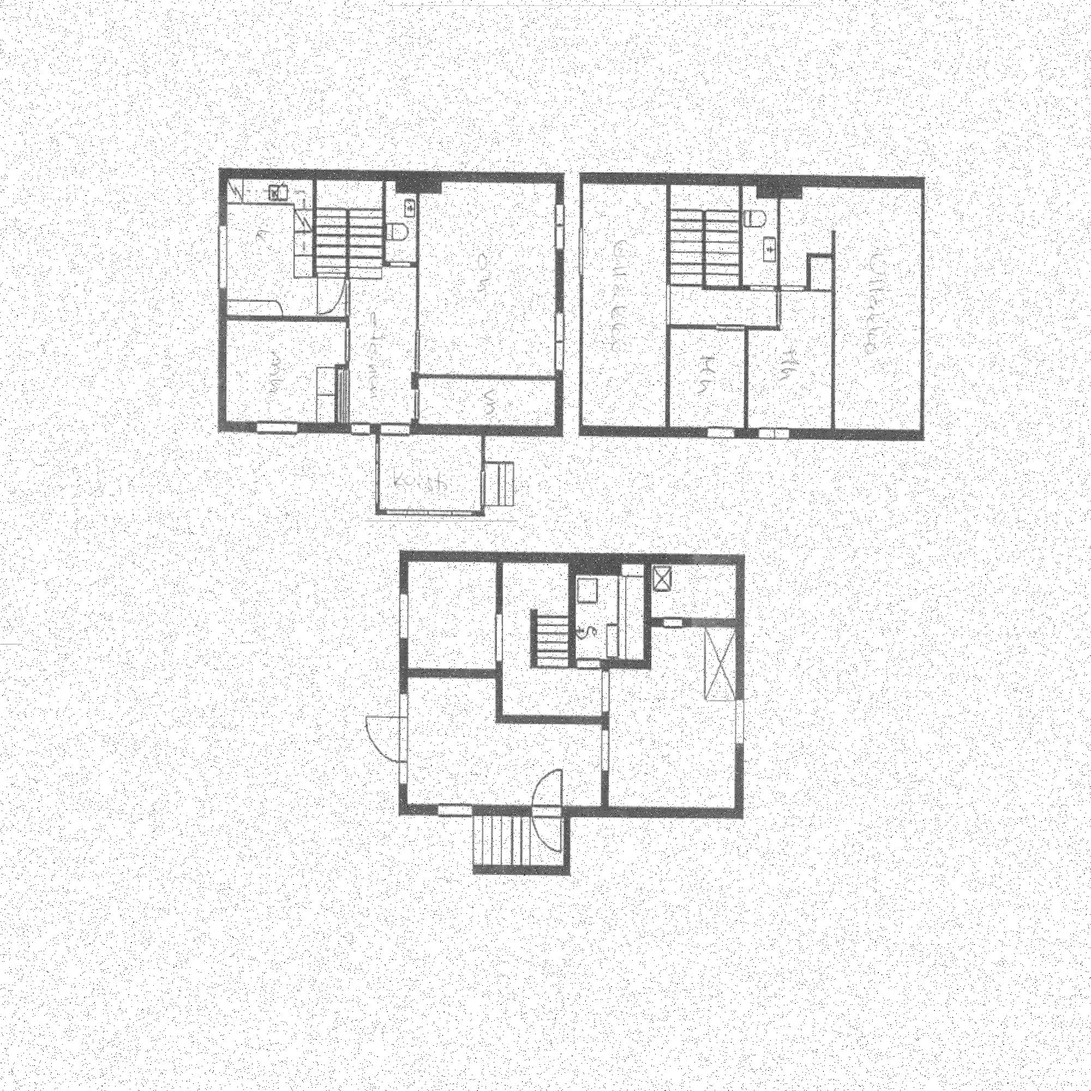wall: (400, 804, 745, 816), (218, 167, 564, 178), (579, 172, 925, 183), (400, 551, 745, 562), (579, 427, 925, 437), (555, 167, 564, 434), (736, 551, 745, 816), (218, 167, 226, 434), (400, 551, 408, 816), (218, 423, 380, 434), (579, 172, 584, 437), (920, 172, 925, 437), (666, 183, 671, 437), (375, 423, 485, 434), (416, 167, 420, 434), (602, 668, 609, 816), (496, 562, 502, 723), (496, 714, 602, 723), (400, 668, 502, 677), (480, 423, 563, 434), (644, 618, 736, 627), (832, 230, 836, 427), (375, 509, 485, 516), (226, 316, 351, 322), (644, 562, 651, 668), (415, 373, 563, 378), (569, 659, 651, 668), (569, 562, 575, 668), (312, 178, 317, 280), (375, 423, 380, 516), (480, 423, 485, 516), (666, 325, 780, 329), (744, 325, 748, 437), (738, 183, 742, 289), (530, 610, 537, 668), (346, 274, 350, 369), (738, 284, 810, 289), (777, 172, 780, 289), (347, 209, 351, 280), (383, 178, 386, 266), (312, 274, 351, 280), (335, 364, 338, 434), (806, 253, 836, 258), (383, 262, 420, 266), (806, 253, 810, 289), (777, 289, 780, 329), (335, 364, 351, 370)
